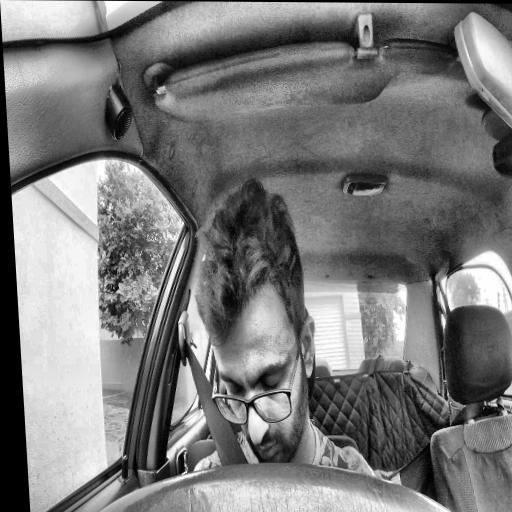drowsy: (189, 174, 323, 475)
